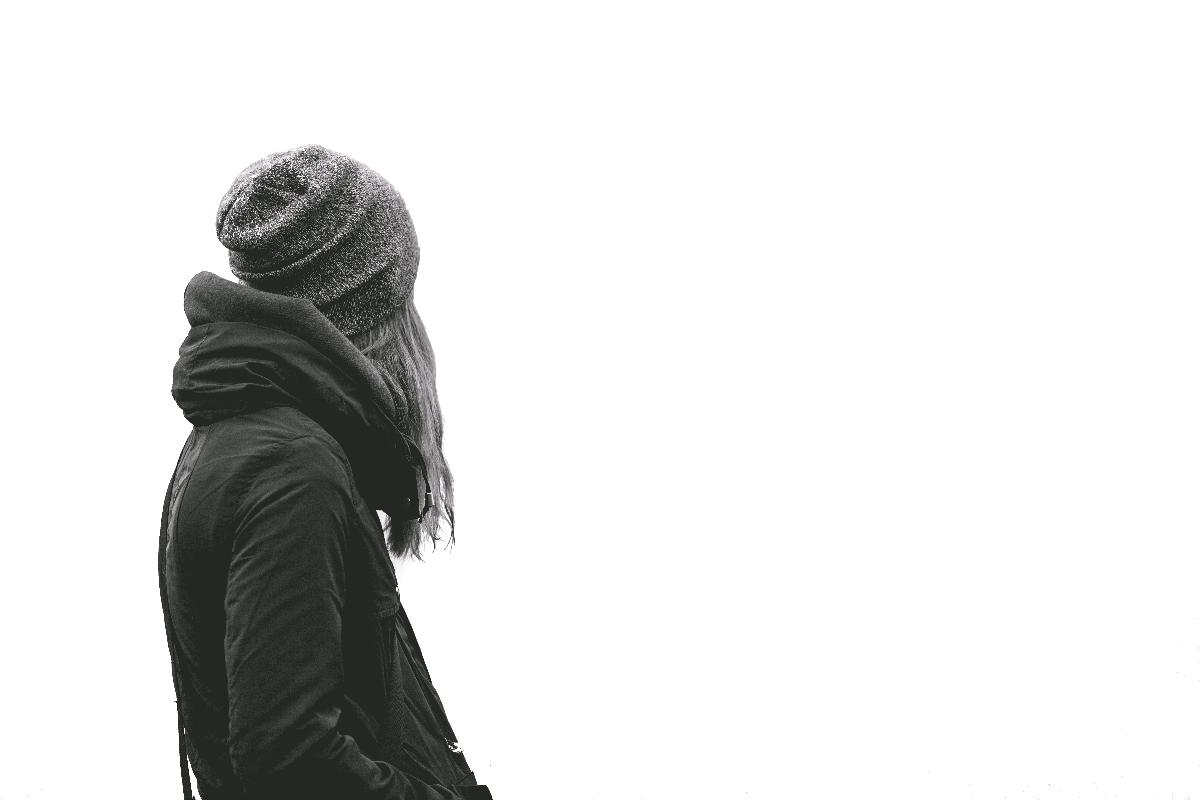Person: (152, 140, 504, 800)
